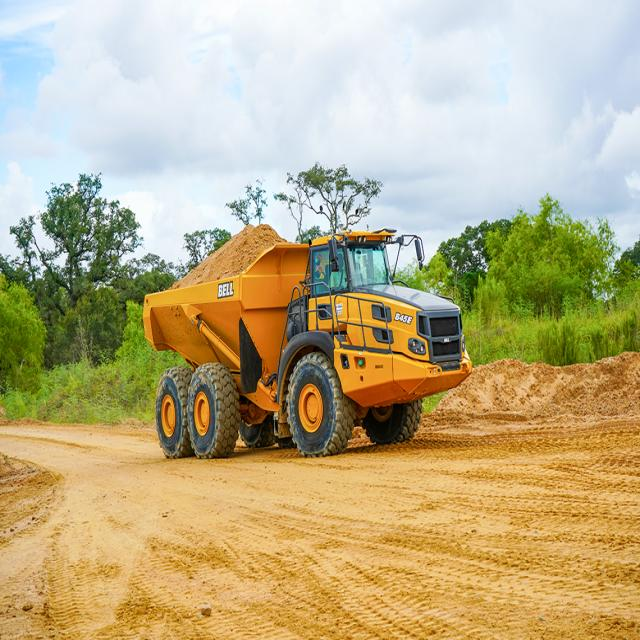dump_truck: (139, 216, 479, 460)
